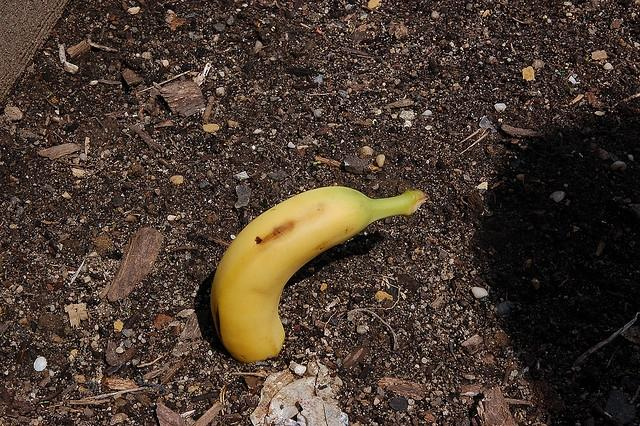banana: (210, 186, 430, 364)
